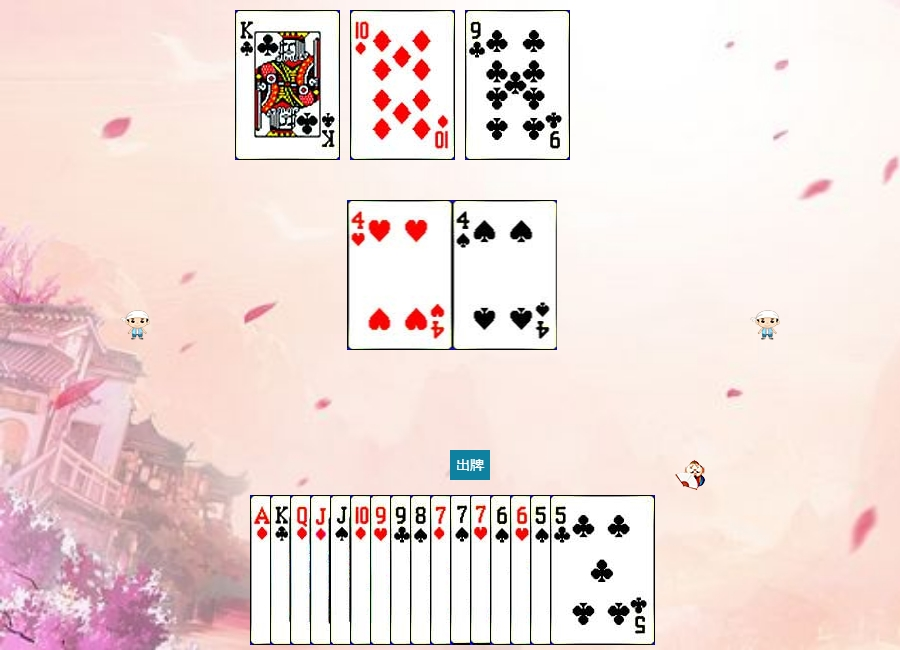10~1: (350, 10, 455, 160), (350, 495, 455, 645)
11~1: (310, 495, 415, 645)
11~4: (330, 495, 435, 645)
12~1: (290, 495, 395, 645)
13~2: (235, 10, 340, 160), (270, 495, 375, 645)
14~1: (250, 495, 355, 645)
4~3: (348, 200, 453, 350)
4~4: (453, 200, 558, 350)
5~2: (550, 495, 655, 645)
5~4: (530, 495, 635, 645)
6~3: (510, 495, 615, 645)
6~4: (490, 495, 595, 645)
7~1: (430, 495, 535, 645)
7~3: (470, 495, 575, 645)
7~4: (450, 495, 555, 645)
8~4: (410, 495, 515, 645)
9~2: (465, 10, 570, 160), (390, 495, 495, 645)
9~3: (370, 495, 475, 645)
